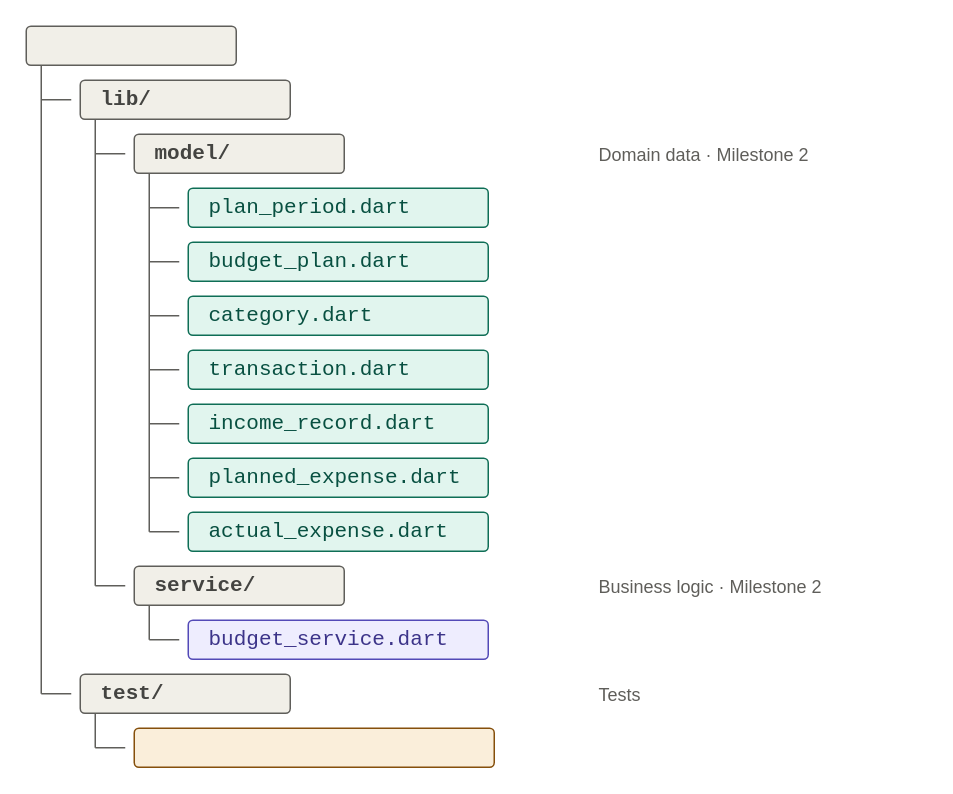
The diagram is 953 pixels wide and 794 high, and some of its shapes have lost their labels. Each missing label, with the box of its shape:
budget_service_test.dart: (133, 727, 494, 767)
pocketwise/: (25, 25, 236, 65)
